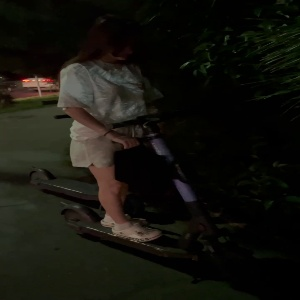human on a scooter: (54, 19, 245, 281)
